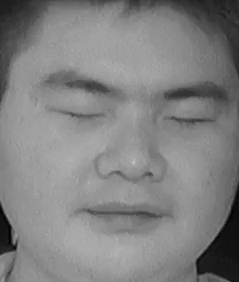blink: (49, 95, 108, 131), (163, 101, 214, 132)
mouth: (78, 191, 168, 239)
